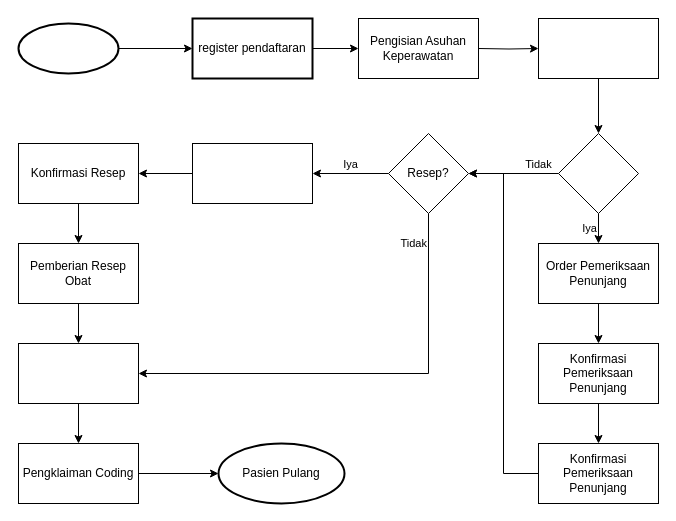
This 676x521 diagram has some shape labels left out. Here are the shapes that lost their labels. From the top down, the box of each, then its label:
(17, 22, 119, 74): Pasien Datang
(538, 18, 658, 78): Pengisian Asuhan Medis
(192, 142, 312, 204): Order Resep
(558, 132, 638, 214): Pemeriksaan Penunjang?
(18, 342, 138, 404): Lakukan Pembayaran
